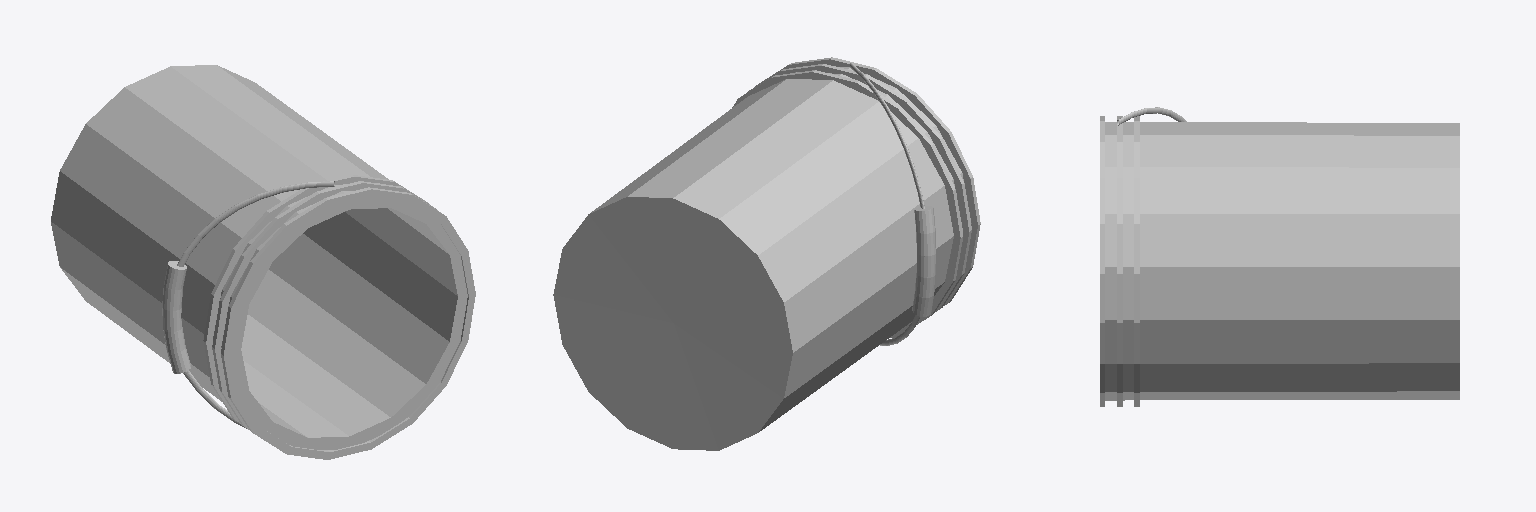
The model's file is BucketHandleDown.obj.
3 renders of one model, left to right at view 1: azimuth 30°, elevation 25°; view 2: azimuth 150°, elevation 25°; view 3: azimuth 270°, elevation 25°, orthographic.
Visible parts, largest first — view 1: Bucket0, Ring1, Ring2, Ring3, Handle0, HandleMeta; view 2: Bucket0, Ring3, Ring1, Ring2, Handle0, HandleMeta; view 3: Bucket0, Ring3, Ring2, Ring1.
Boxes of the visible parts, box(x1,y1,x2,y2) form: Bucket0: box(51, 65, 467, 449); Ring1: box(221, 187, 475, 459); Ring2: box(212, 181, 436, 444); Ring3: box(203, 175, 428, 423); Handle0: box(162, 261, 190, 373); HandleMeta: box(177, 181, 334, 428); Bucket0: box(553, 67, 971, 450); Ring3: box(732, 70, 962, 337); Ring1: box(755, 57, 980, 305); Ring2: box(747, 64, 971, 311); Handle0: box(912, 206, 935, 316); HandleMeta: box(850, 63, 924, 345); Bucket0: box(1105, 122, 1459, 400); Ring3: box(1134, 116, 1139, 406); Ring2: box(1117, 116, 1122, 406); Ring1: box(1100, 116, 1104, 406).
Bounding box in the file's own units: 154 × 152 × 185.